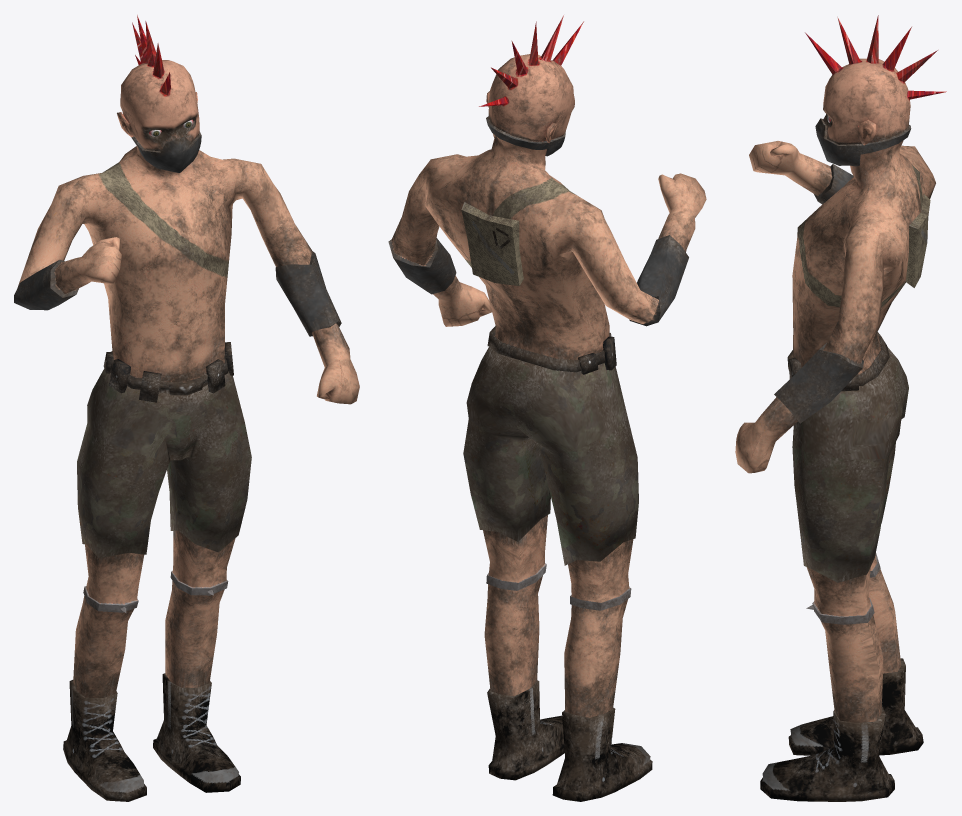
Rendered from Anim_perder_1_npc2.0053.obj.
3 renders of one model, left to right at view 1: azimuth 30°, elevation 25°; view 2: azimuth 150°, elevation 25°; view 3: azimuth 270°, elevation 25°, orthographic. The views are drawn at different scales.
Parts seen in each view (by area): view 1: polySurface1; view 2: polySurface1; view 3: polySurface1.
Boxes of the visible parts, <box> form: polySurface1: <box>14,15,359,801</box>; polySurface1: <box>388,15,706,801</box>; polySurface1: <box>735,15,946,801</box>.
Size of the model in its own units: 4.06 by 10.12 by 2.55.
